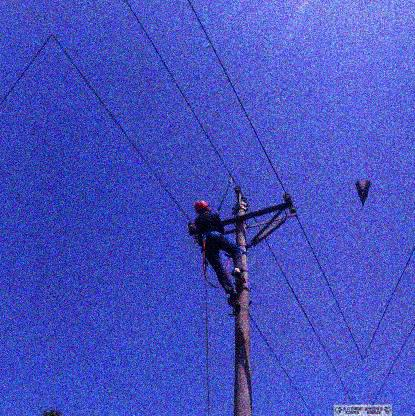helmet: (192, 196, 211, 216)
